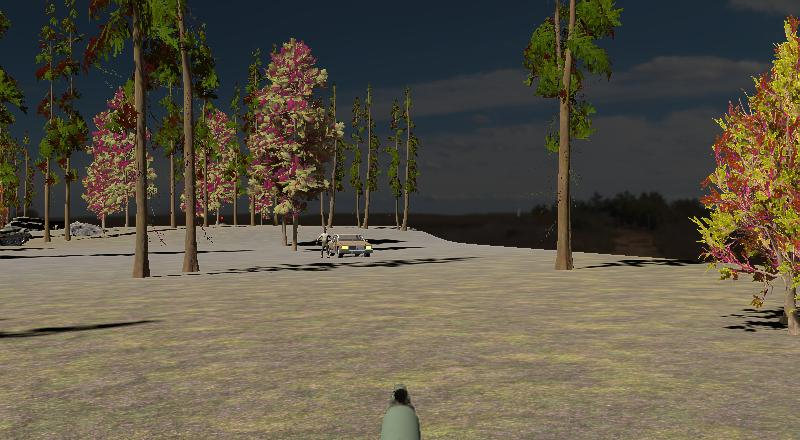Tank: (0, 223, 33, 247)
car: (326, 232, 374, 259)
